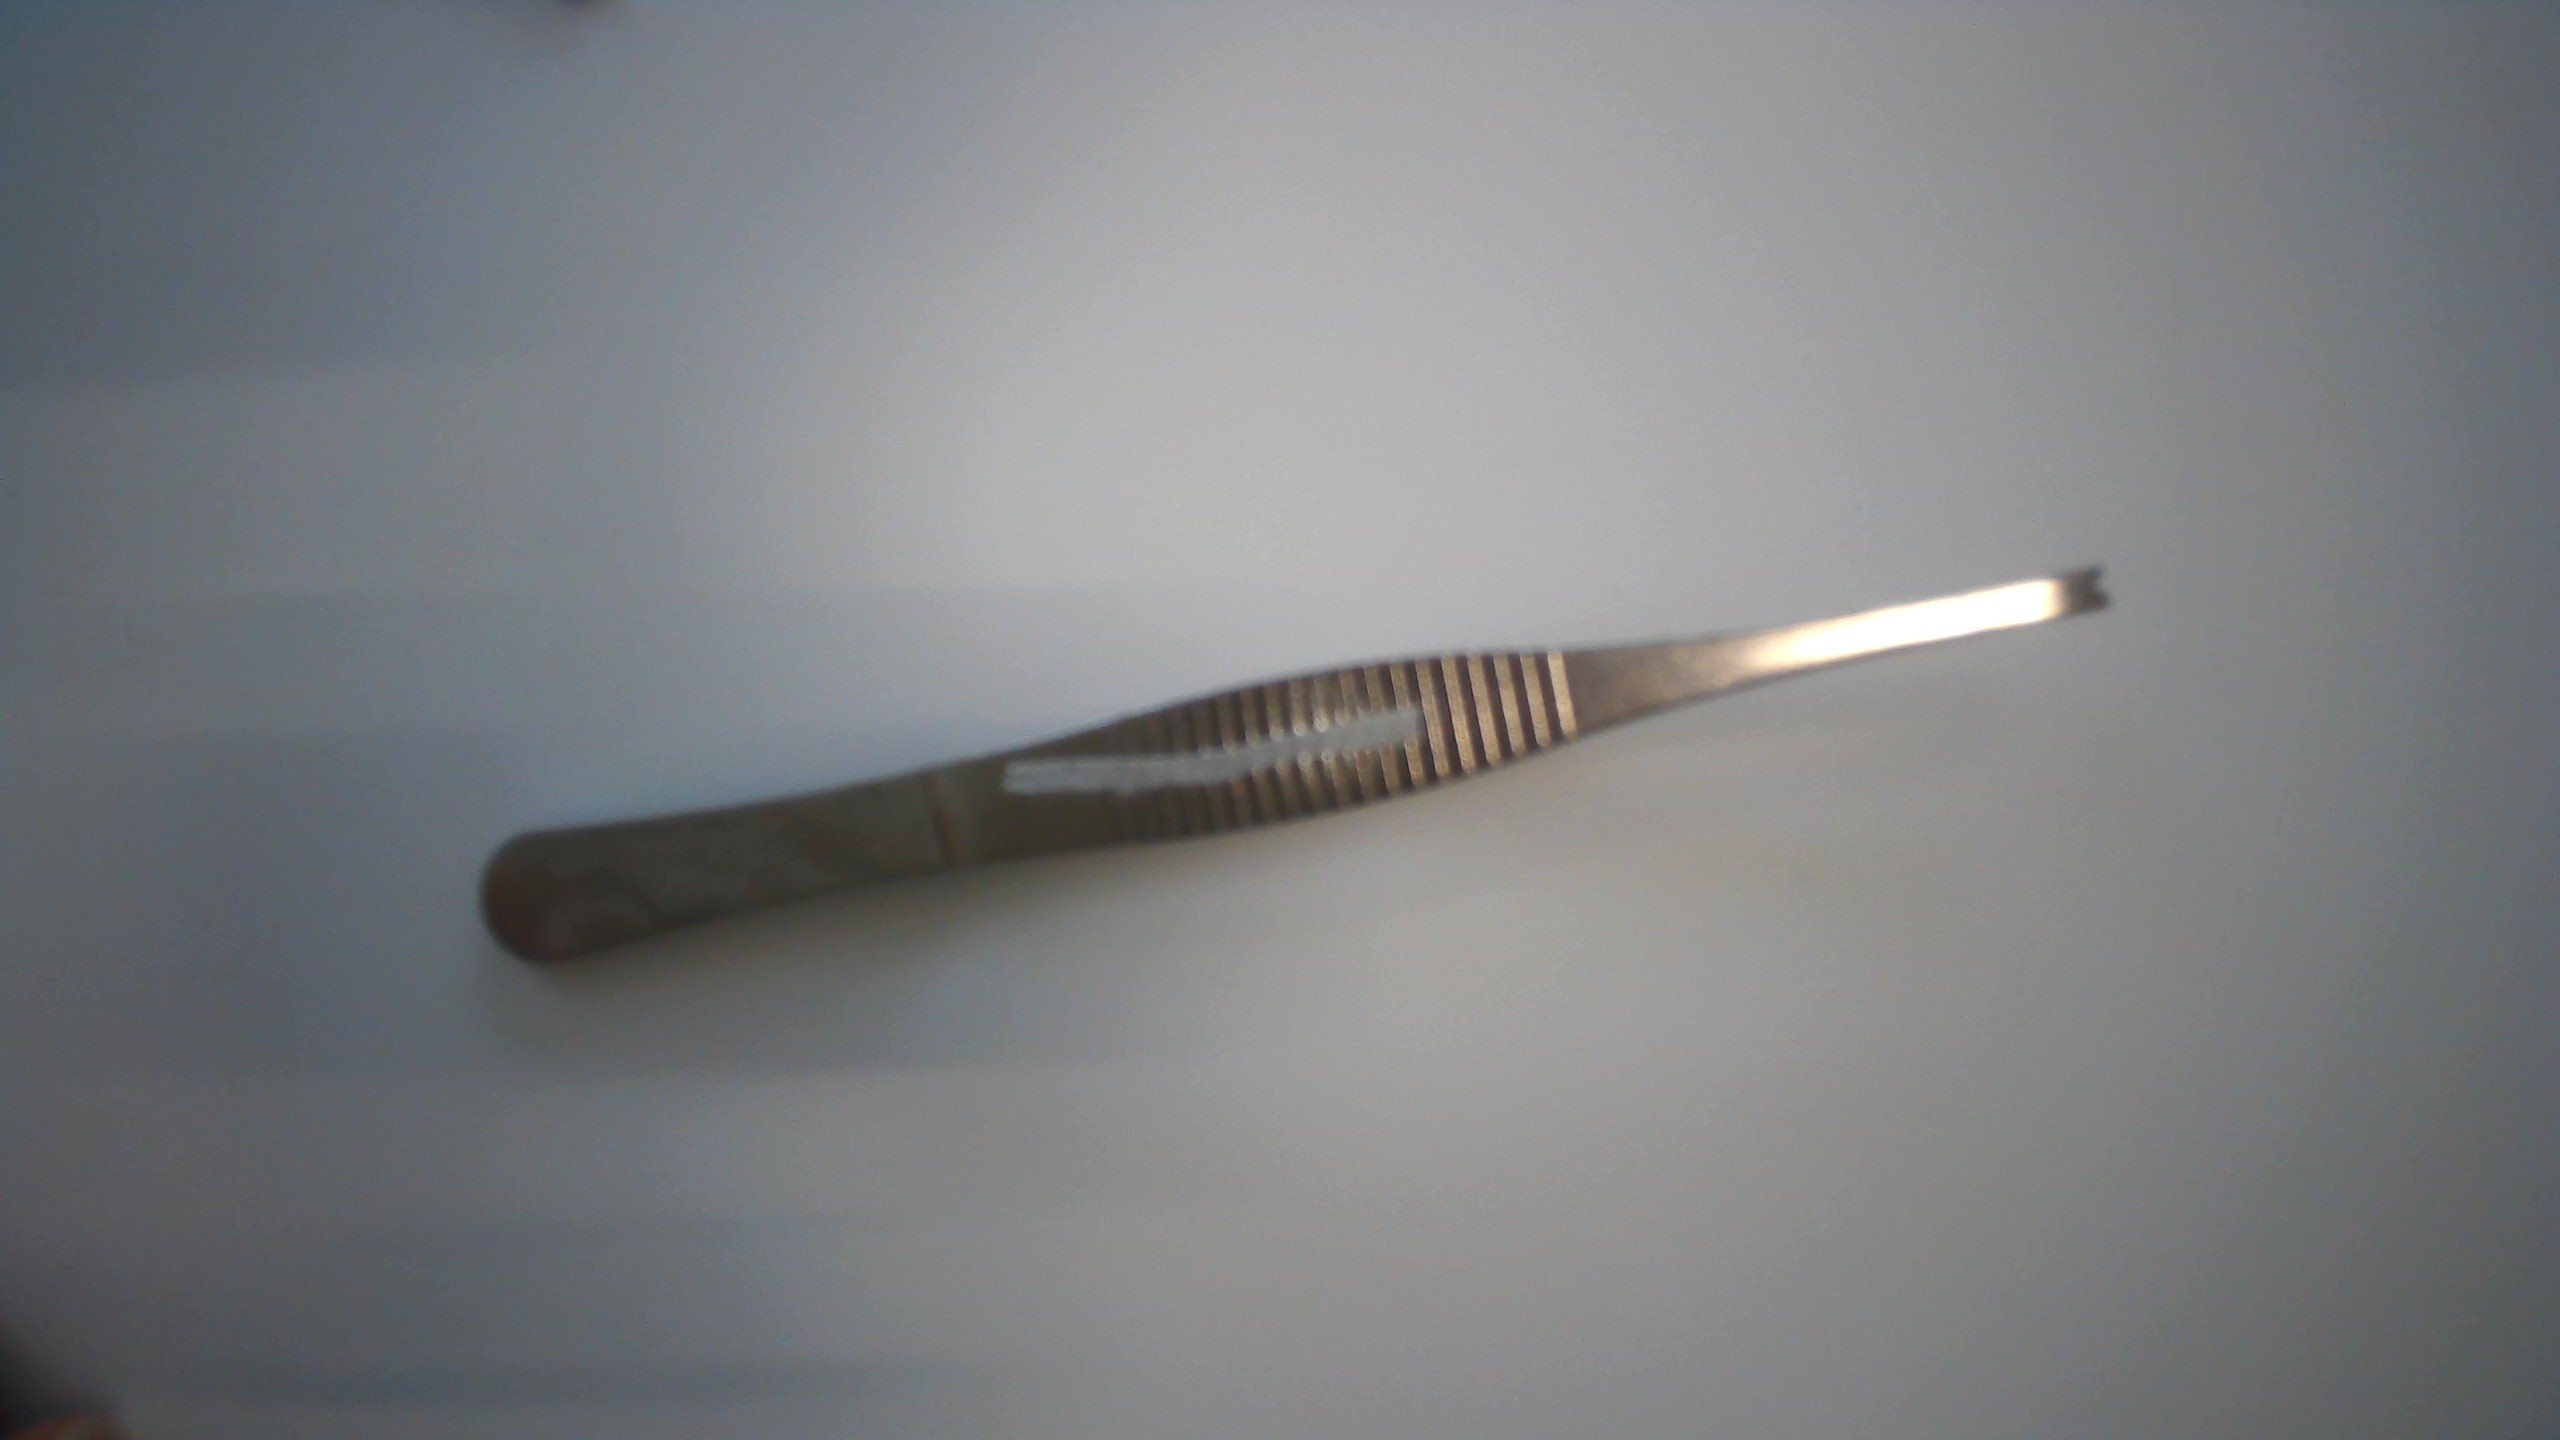Scratches: (1001, 693, 1416, 820)
